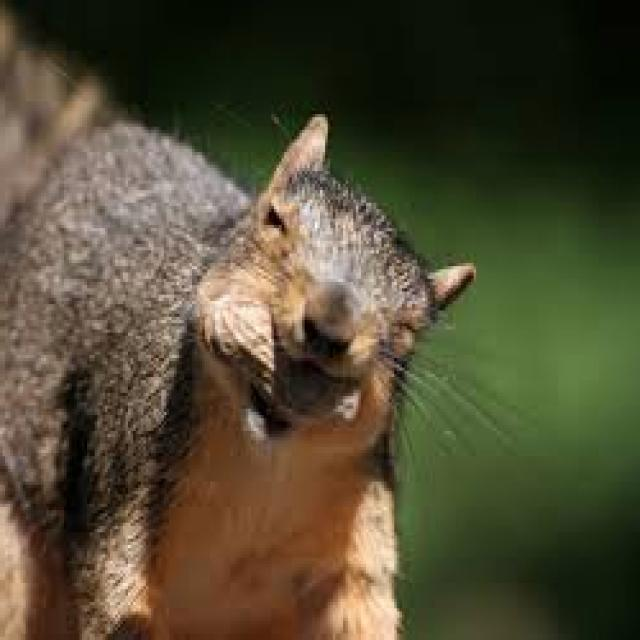squirrel: (3, 114, 476, 637)
